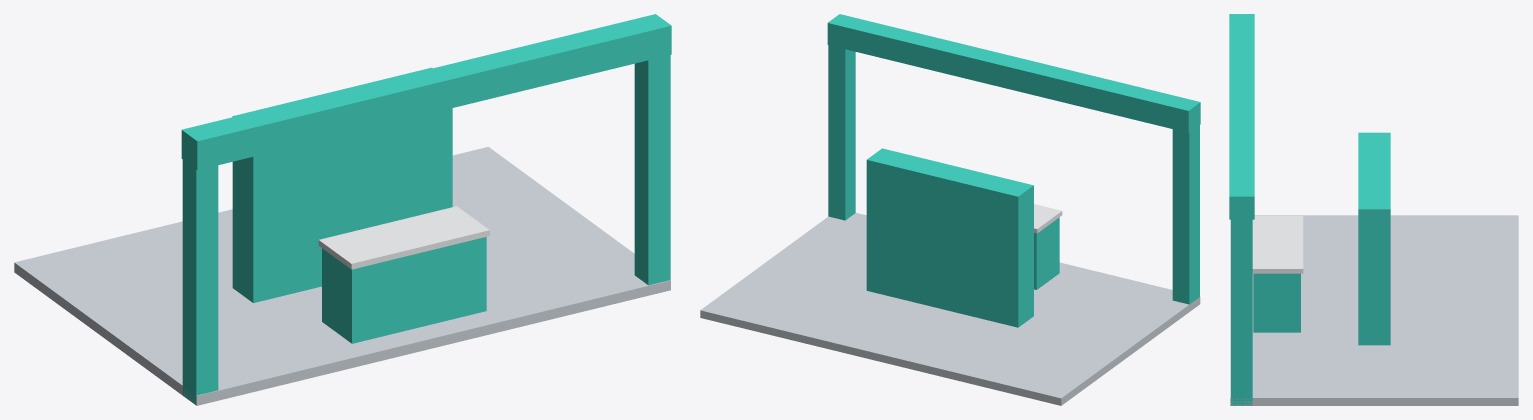
3 renders of one model, left to right at view 1: azimuth 30°, elevation 25°; view 2: azimuth 150°, elevation 25°; view 3: azimuth 270°, elevation 25°, orthographic. The views are drawn at different scales.
Parts seen in each view (by area): view 1: Exhibition Booth Concept; view 2: Exhibition Booth Concept; view 3: Exhibition Booth Concept.
Part boxes in pixels (bbox=[...]): Exhibition Booth Concept: bbox=[14, 14, 671, 405]; Exhibition Booth Concept: bbox=[700, 14, 1200, 405]; Exhibition Booth Concept: bbox=[1229, 14, 1518, 405].
Size of the model in its own units: 6 by 3.2 by 4.02.
